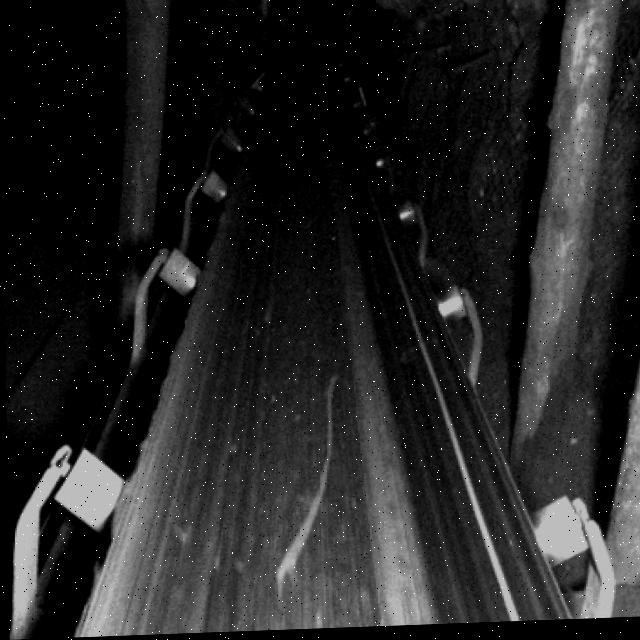bolt: (272, 377, 339, 587)
